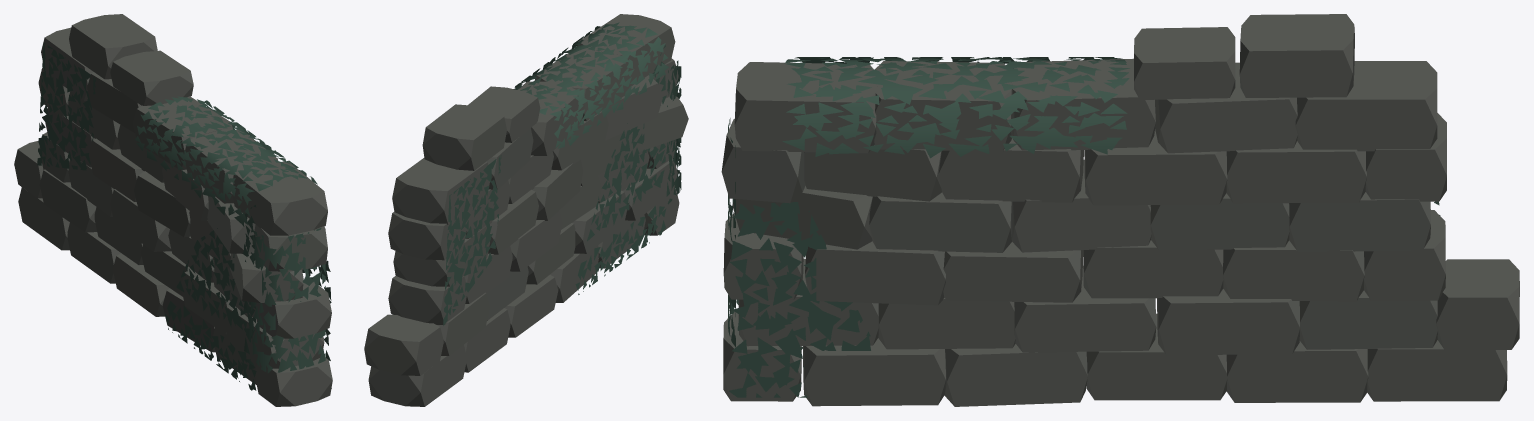
The model's file is Stonefence3.fbx.
3 renders of one model, left to right at view 1: azimuth 30°, elevation 25°; view 2: azimuth 150°, elevation 25°; view 3: azimuth 270°, elevation 25°, orthographic. The views are drawn at different scales.
Parts seen in each view (by area): view 1: Stonefence3; view 2: Stonefence3; view 3: Stonefence3.
Boxes of the visible parts, <box> form: Stonefence3: <box>14,14,332,406</box>; Stonefence3: <box>364,14,688,406</box>; Stonefence3: <box>721,14,1519,406</box>.
Bounding box in the file's own units: 0.9847 × 2.54 × 5.31.
